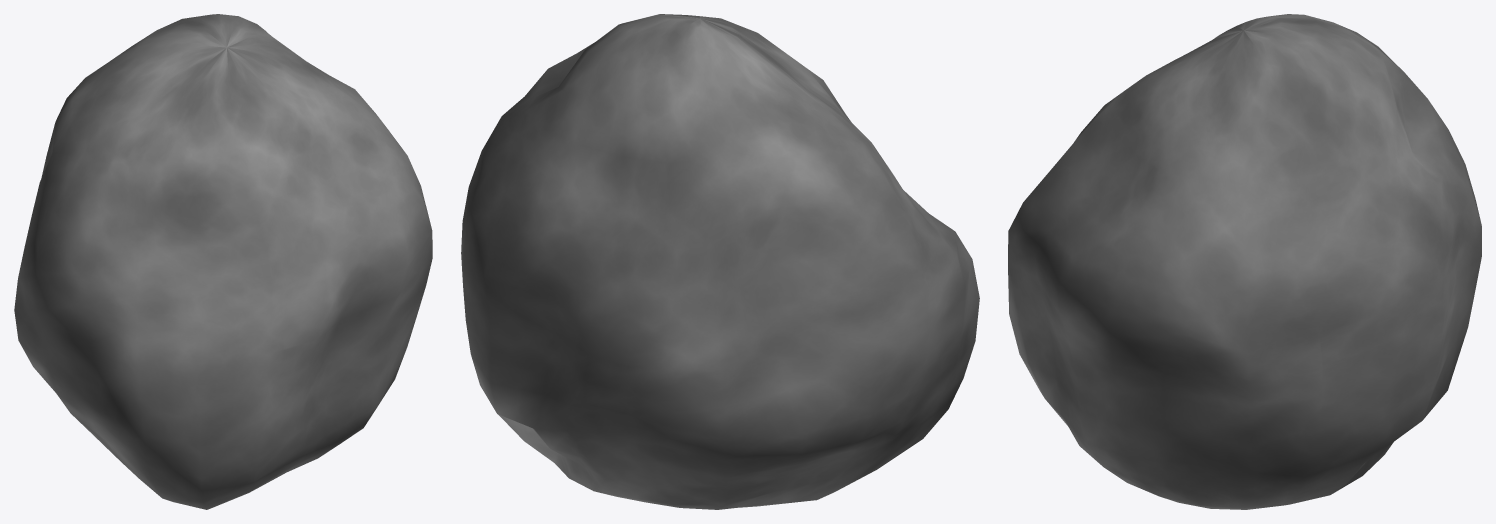
File: greyAsteroid.fbx
The picture shows the model from 3 angles, left to right: view 1: azimuth 30°, elevation 25°; view 2: azimuth 150°, elevation 25°; view 3: azimuth 270°, elevation 25°; orthographic projection. The views are drawn at different scales.
Parts seen in each view (by area): view 1: AsteroidGrey; view 2: AsteroidGrey; view 3: AsteroidGrey.
Boxes of the visible parts, bbox=[...] form: AsteroidGrey: bbox=[14, 14, 432, 509]; AsteroidGrey: bbox=[461, 14, 979, 509]; AsteroidGrey: bbox=[1008, 14, 1481, 509].
Bounding box in the file's own units: 21.1 × 22.21 × 20.52.
